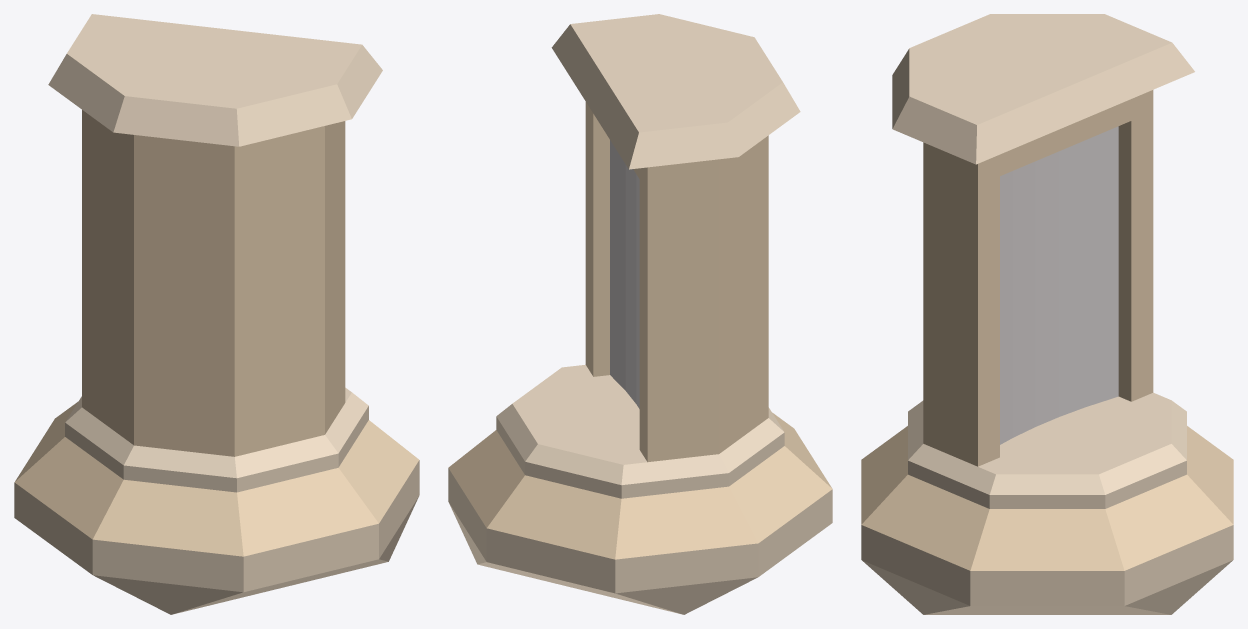
Rendered from Puzzle_Sliding_Mirror.glb.
3 views of the same model, side by side, from view 1: azimuth 30°, elevation 25°; view 2: azimuth 150°, elevation 25°; view 3: azimuth 270°, elevation 25° (orthographic). The views are drawn at different scales.
Parts seen in each view (by area): view 1: Puzzle_Sliding_Mirror; view 2: Puzzle_Sliding_Mirror; view 3: Puzzle_Sliding_Mirror.
Part boxes in pixels (x1,y1,x2,y2): Puzzle_Sliding_Mirror: (14, 14, 419, 614); Puzzle_Sliding_Mirror: (448, 14, 832, 614); Puzzle_Sliding_Mirror: (861, 14, 1233, 614).
Size of the model in its own units: 0.6 by 0.872 by 0.6.
